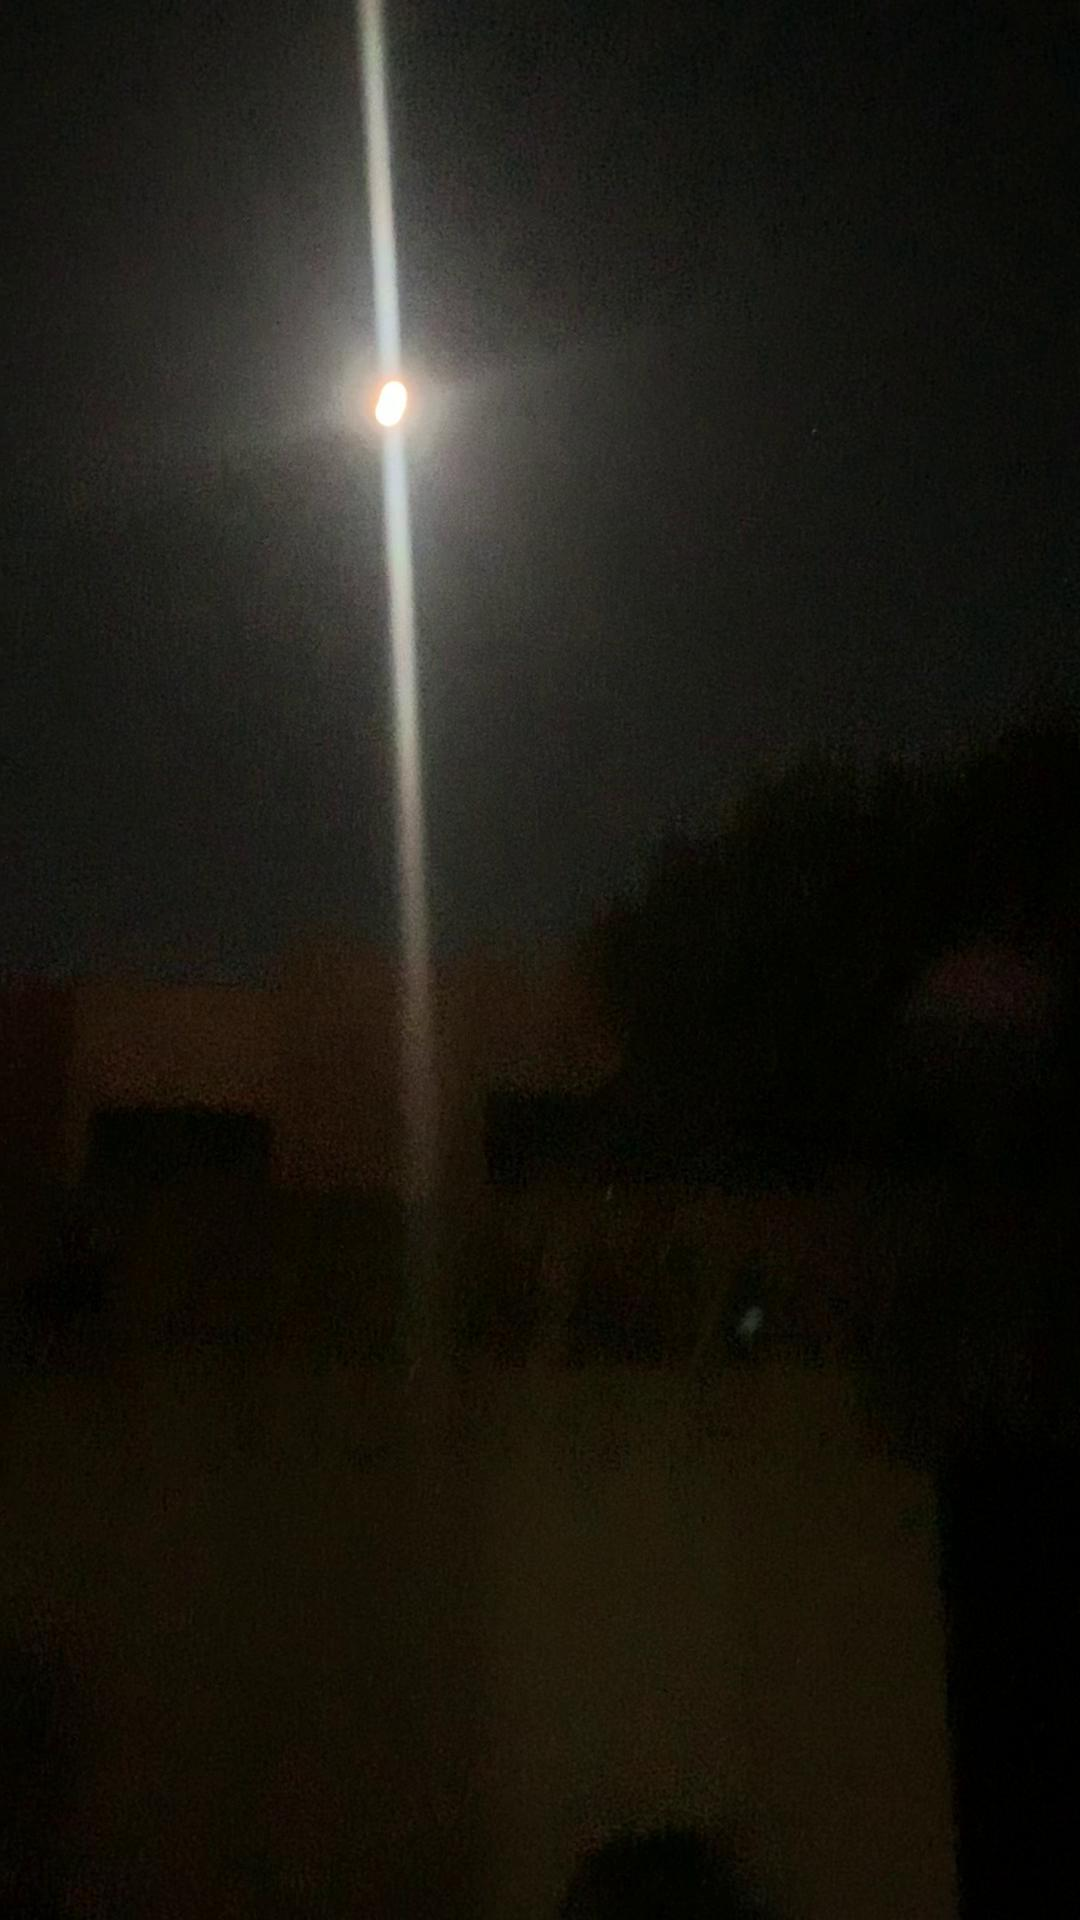moon: (348, 352, 452, 451)
